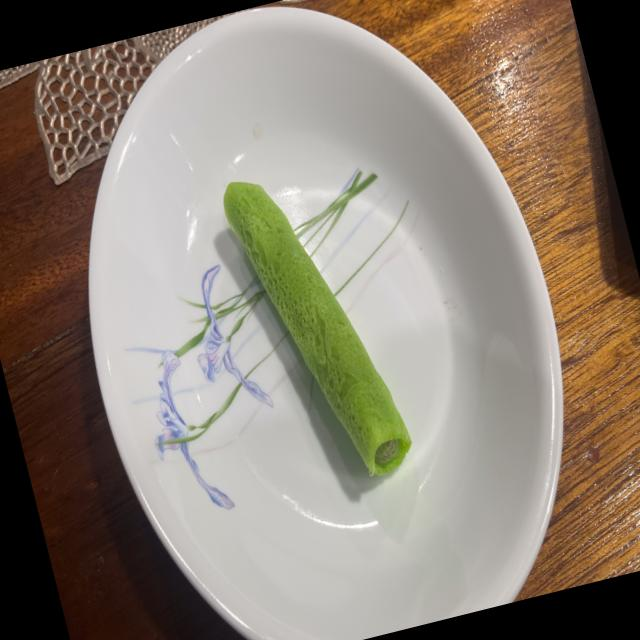Kuih-Ketayap: (223, 181, 411, 475)
